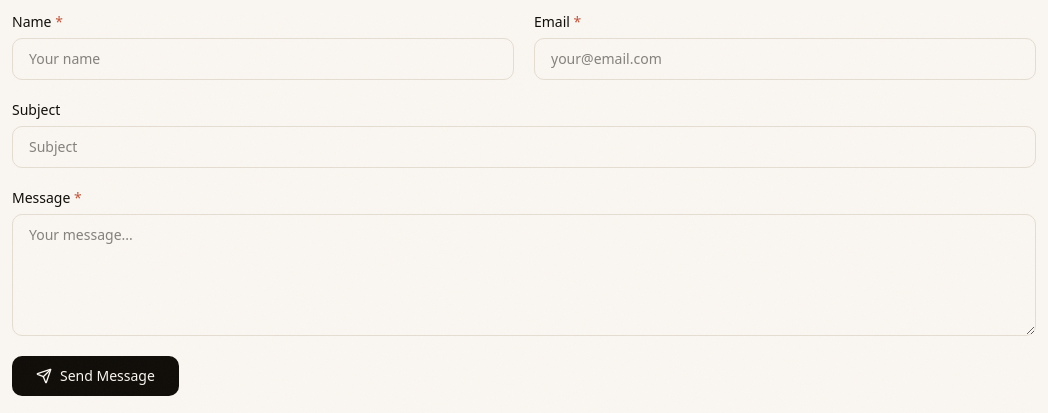
it: ContactForm › should submit valid data and show success state
Type "Jane Doe" into the field labelled "Name *" at (263, 59), box [12,38,514,80]
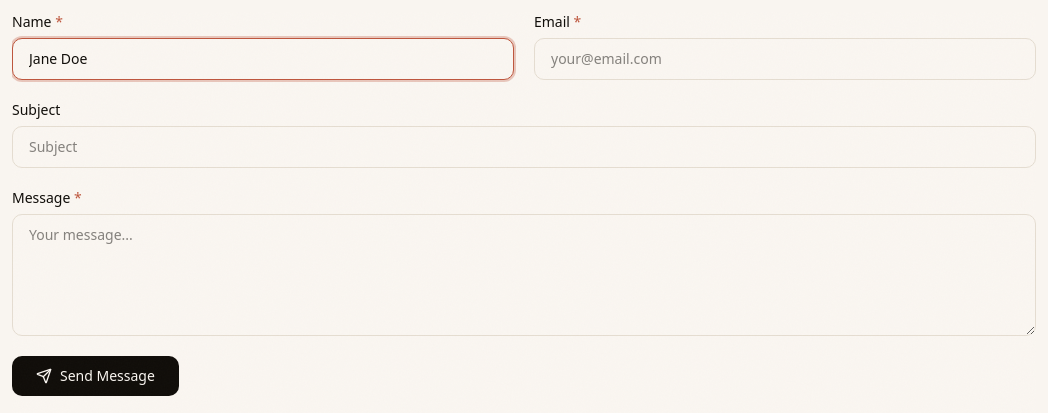
Type "jane@example.com" into the field labelled "Email *" at (785, 59), box [534,38,1036,80]
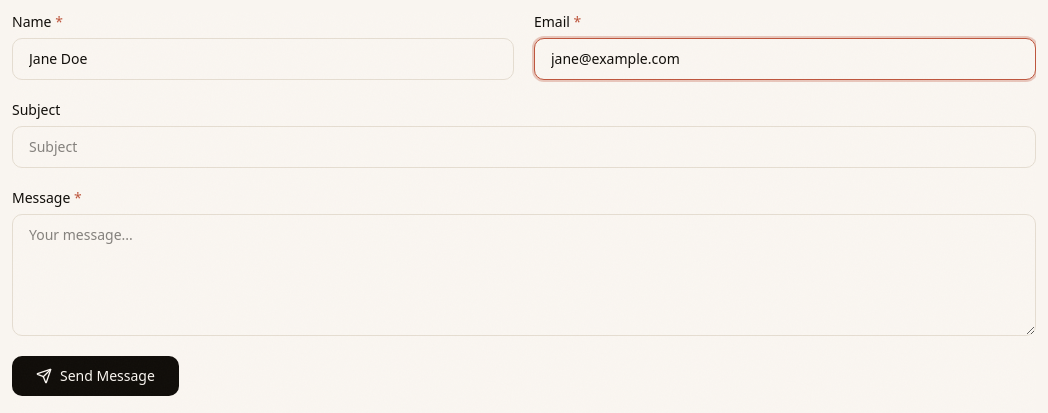
Type "Hello" into the field labelled "Subject" at (524, 147), box [12,126,1036,168]
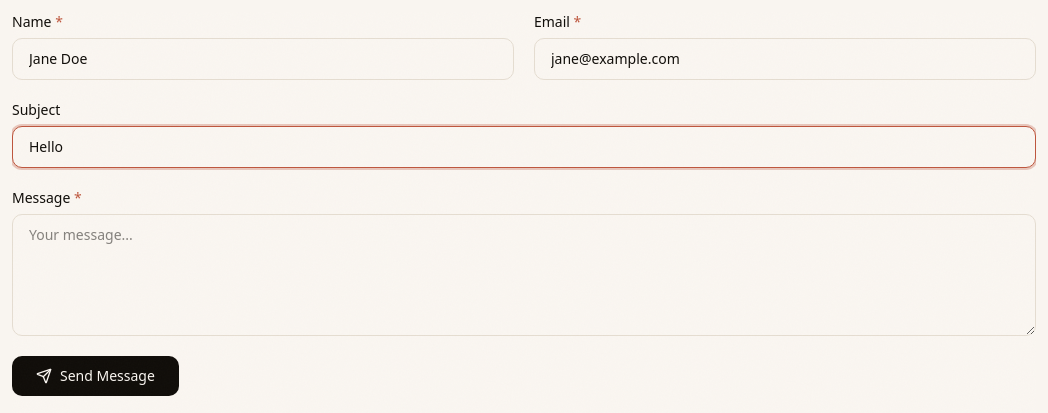
Type "This is a sufficiently long test message body." into the text box labelled "Message *" at (524, 275), box [12,214,1036,336]
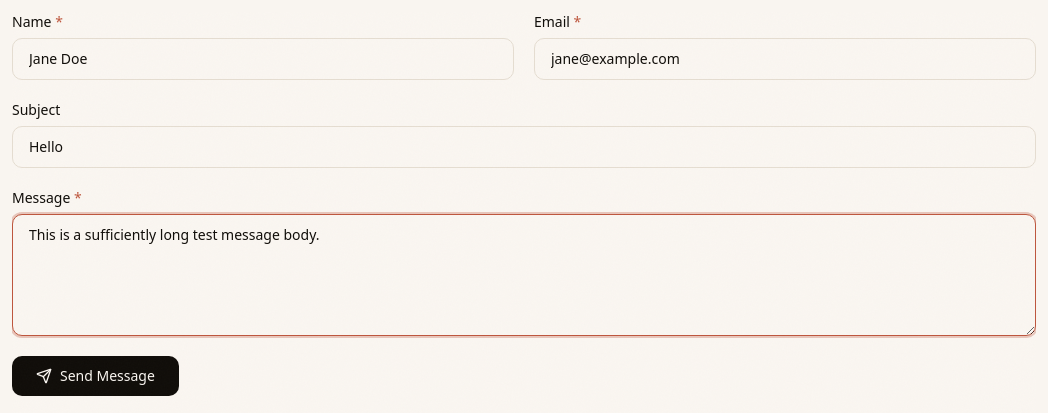
Click the button "Send Message" at (95, 376), box [12,356,179,396]
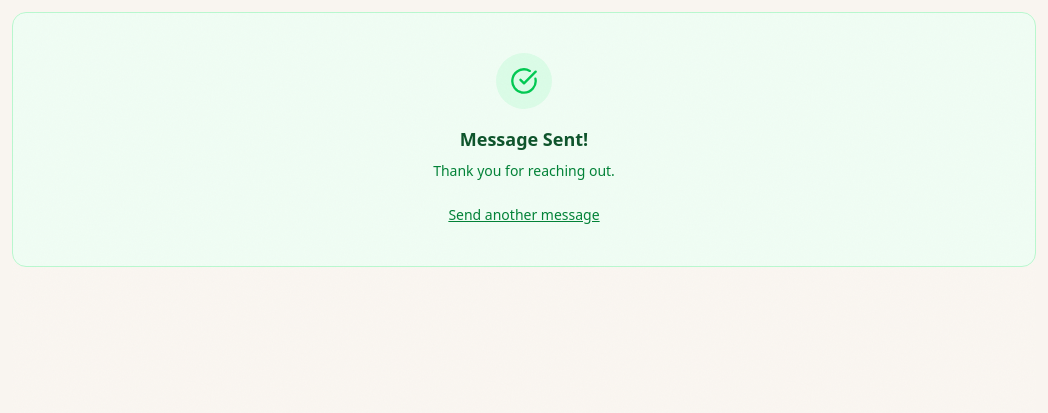
Now the heading "Message Sent!" is shown, box [460,127,588,151]
